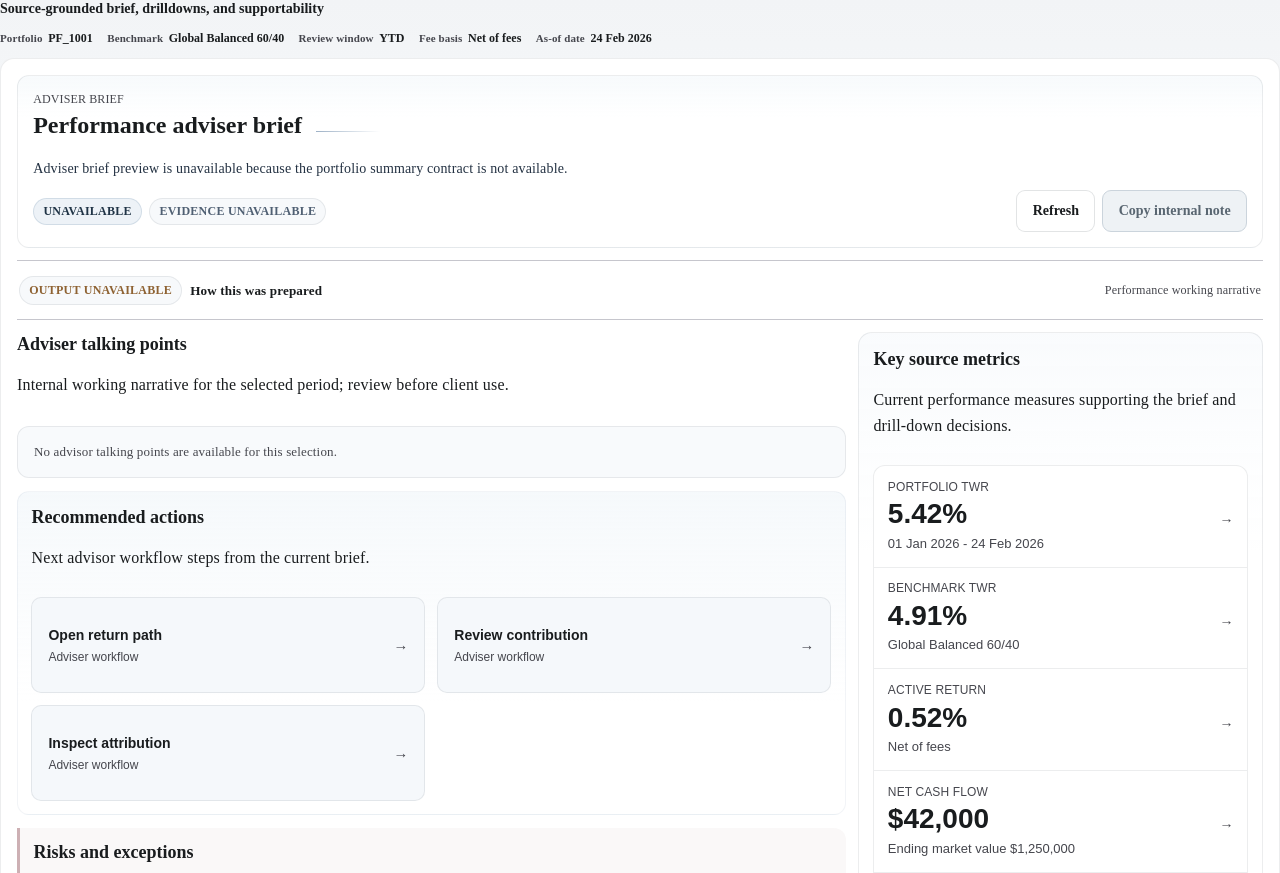
Test: PerformanceAdvisorBriefMode › recovers from an unavailable advisor brief after an explicit refresh
Step 1. Click the button "Refresh" → [1056, 211], box 1016,190 -> 1095,232
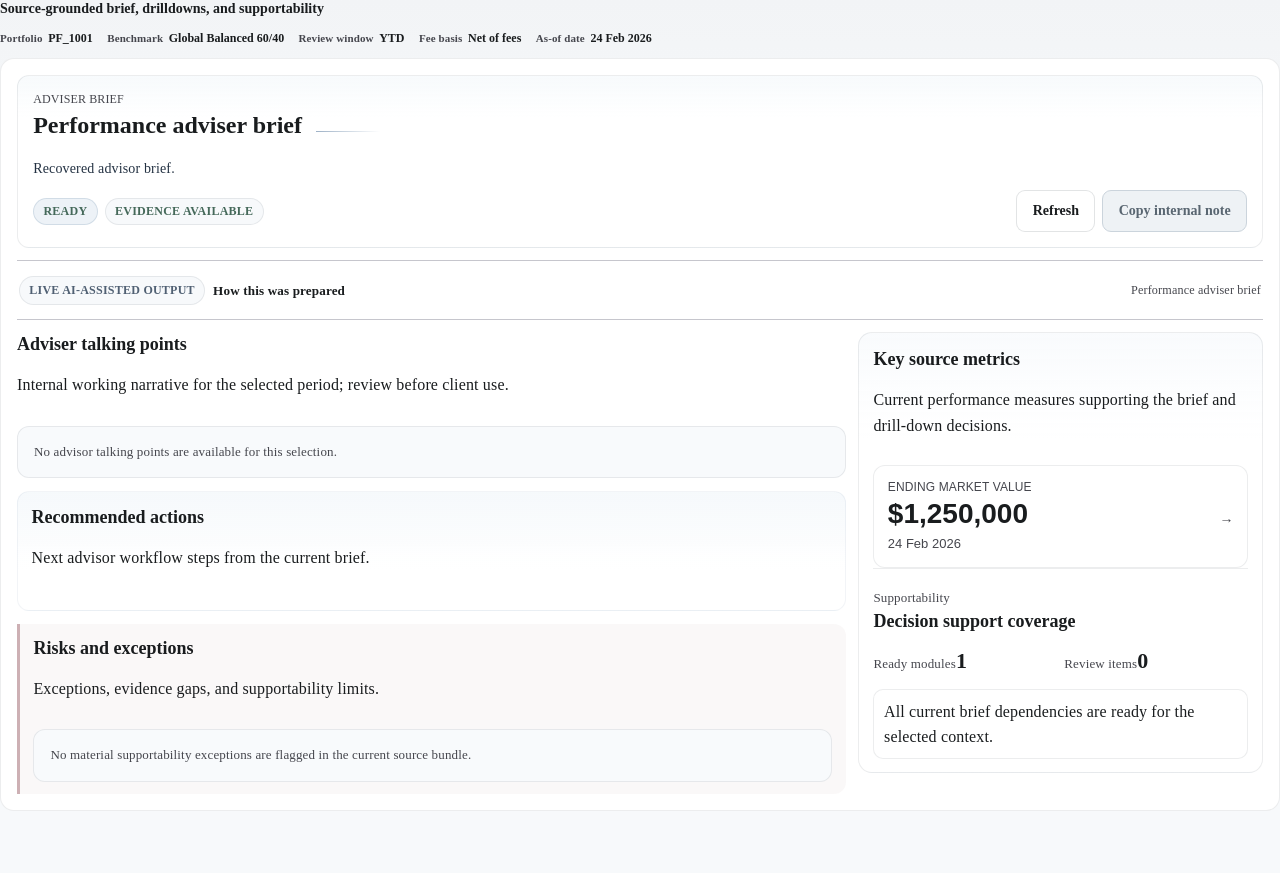
Check: the text named "Brief synopsis" reads "Recovered advisor brief.", box 33,161 -> 175,176
